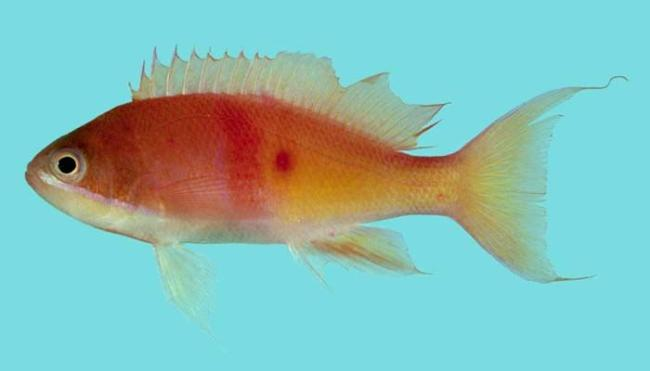fish: (25, 41, 606, 333)
